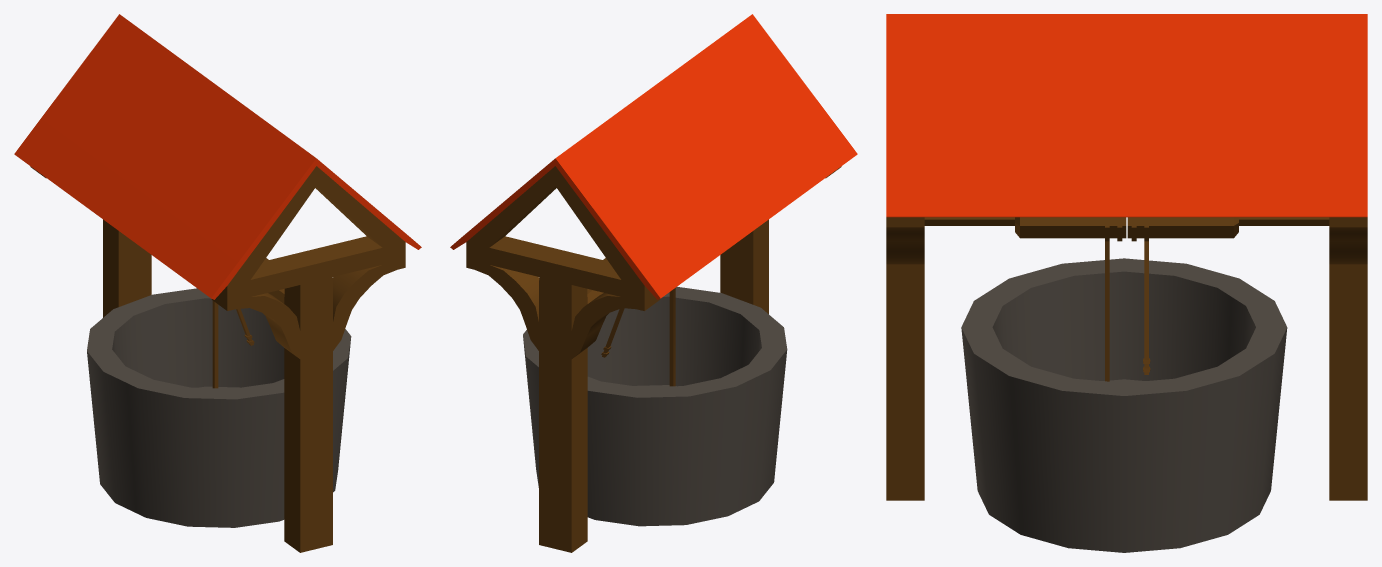
The model's file is Well.fbx.
3 renders of one model, left to right at view 1: azimuth 30°, elevation 25°; view 2: azimuth 150°, elevation 25°; view 3: azimuth 270°, elevation 25°, orthographic. The views are drawn at different scales.
Visible parts, largest first — view 1: Plane.002; view 2: Plane.002; view 3: Plane.002.
Boxes of the visible parts, bbox=[...] form: Plane.002: bbox=[14, 14, 421, 552]; Plane.002: bbox=[450, 14, 857, 552]; Plane.002: bbox=[886, 14, 1367, 552].
Size of the model in its own units: 361 by 583 by 533.
